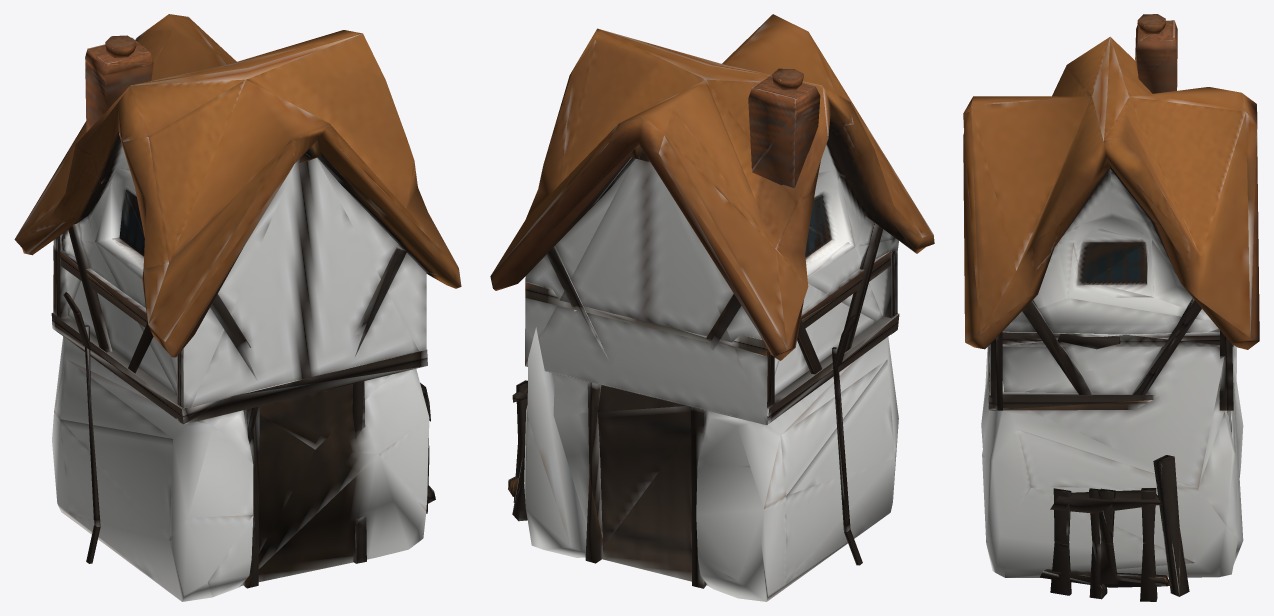
Rendered from building-cottage-02.glb.
3 renders of one model, left to right at view 1: azimuth 30°, elevation 25°; view 2: azimuth 150°, elevation 25°; view 3: azimuth 270°, elevation 25°, orthographic. The views are drawn at different scales.
Bounding box in the file's own units: 0.6821 × 0.9502 × 0.5552.
1 material, 1 textured.
